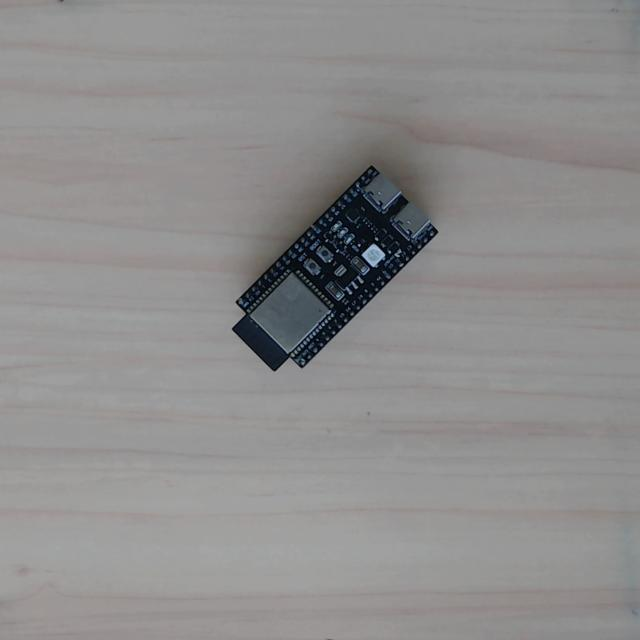ESP32S3-Devkit: (218, 163, 441, 384)
